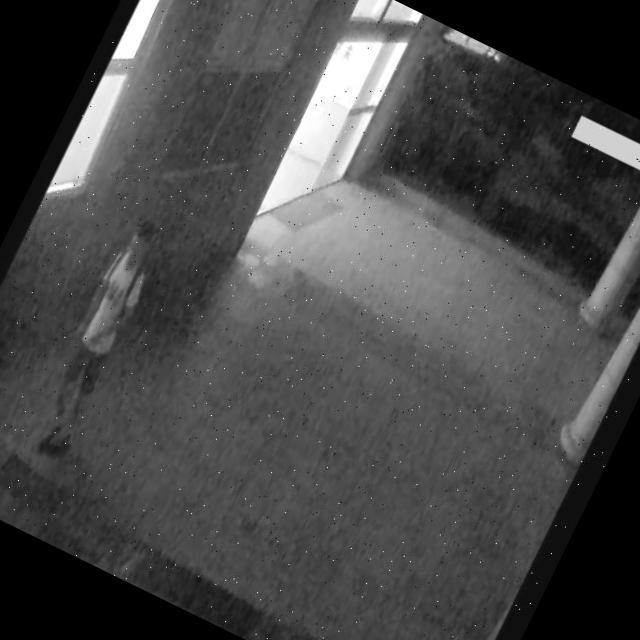person: (16, 208, 180, 470)
